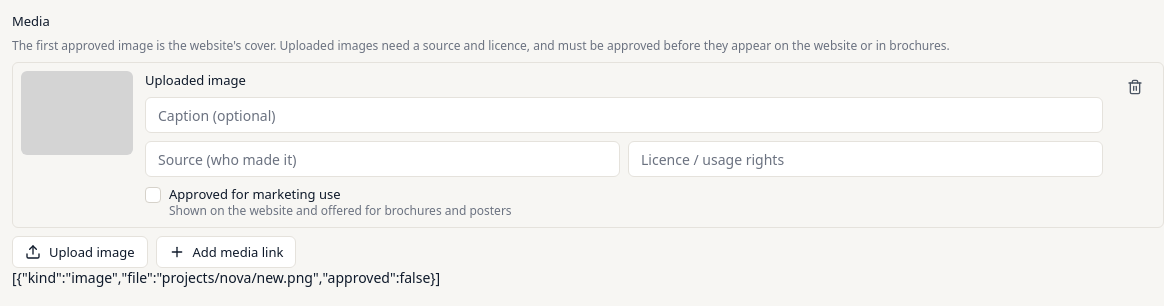
Test case: project media editing › uploads an image from the device; it is approved only with a source and licence
Earlier steps of the test are not shown.
Expected: the list item with test id "uploaded-image" is shown, [12,62,1163,228]
Click the checkbox named "Approve media 1": x=153, y=195 [145,187,161,203]
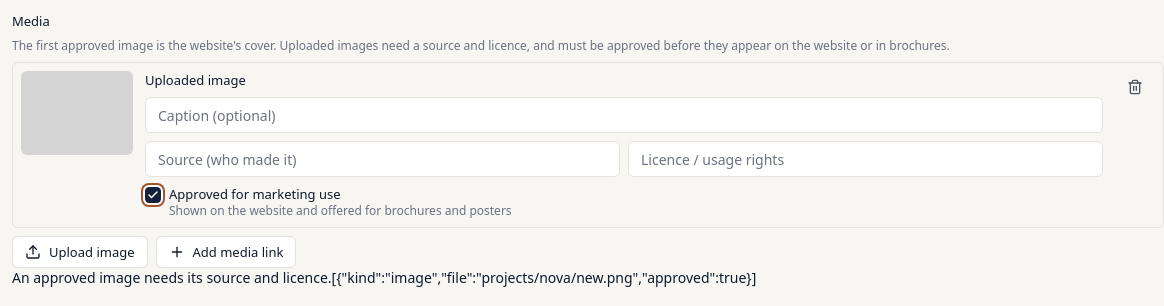
Expected: the text with test id "err" reads "An approved image needs its source and licence.", [12,268,332,287]
In the field named "Media 1 source": x=382, y=159 [145,141,620,177], type "Studio X"
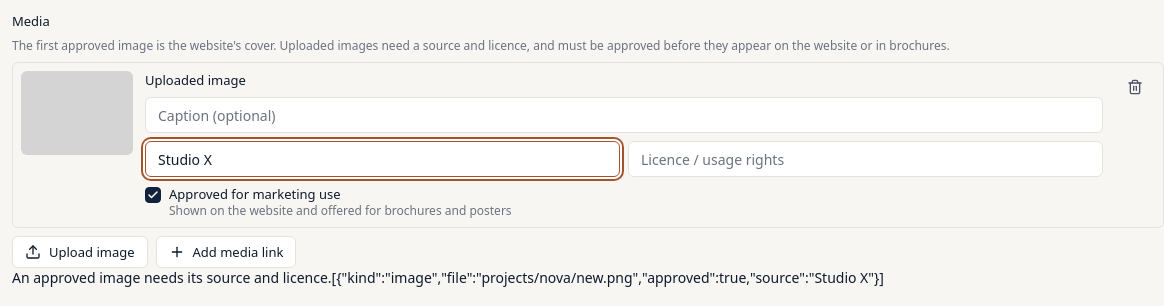
In the field named "Media 1 licence": x=866, y=159 [628,141,1103,177], type "Licensed for marketing"
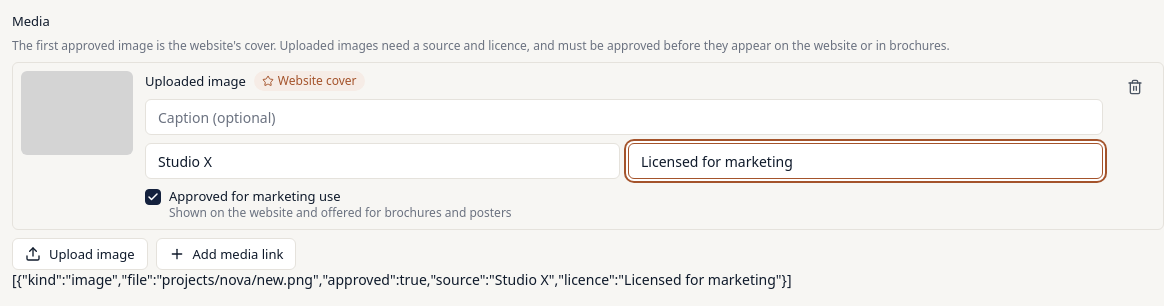
Expected: the text "Website cover" is shown, [254,71,364,91]
